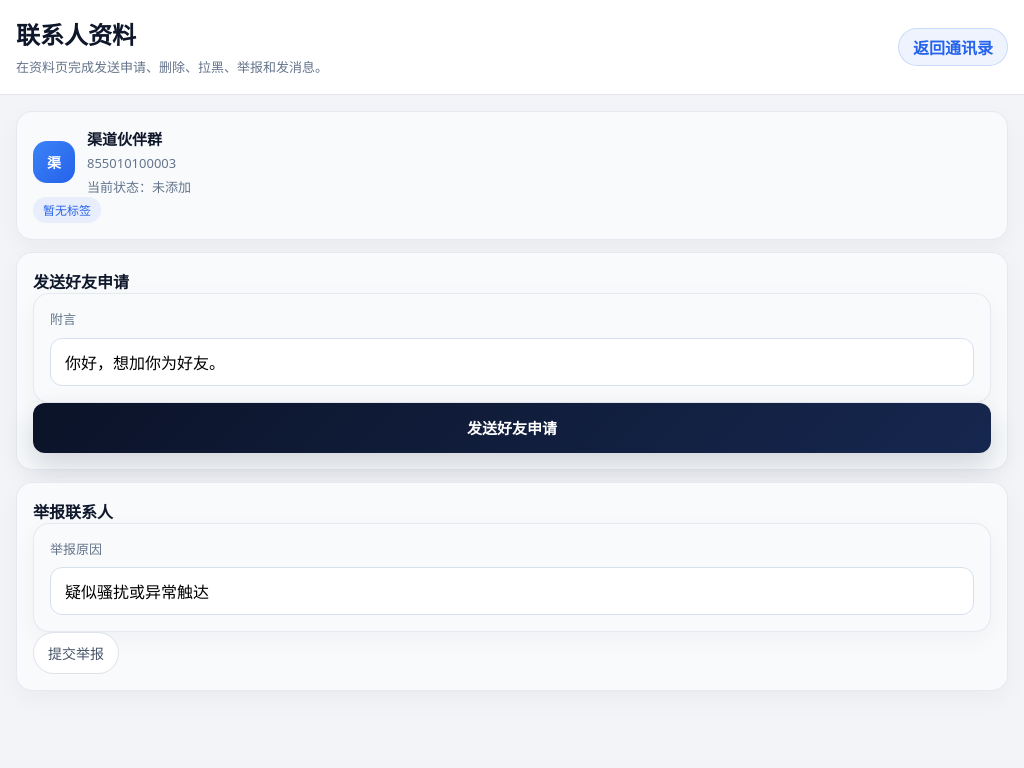
Scenario: App route entry › sends friend request from contact profile
Click the button "发送好友申请" at (512, 428), box [33,403,991,453]
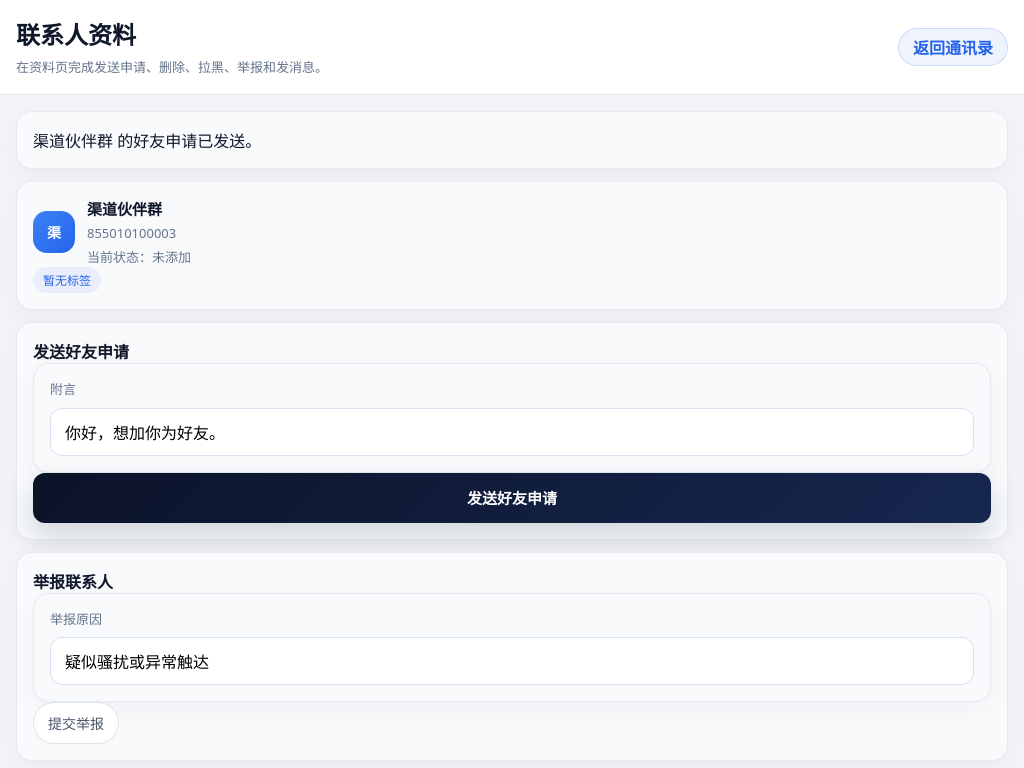
Now the text "渠道伙伴群 的好友申请已发送。" is shown, box [16,111,1008,169]
